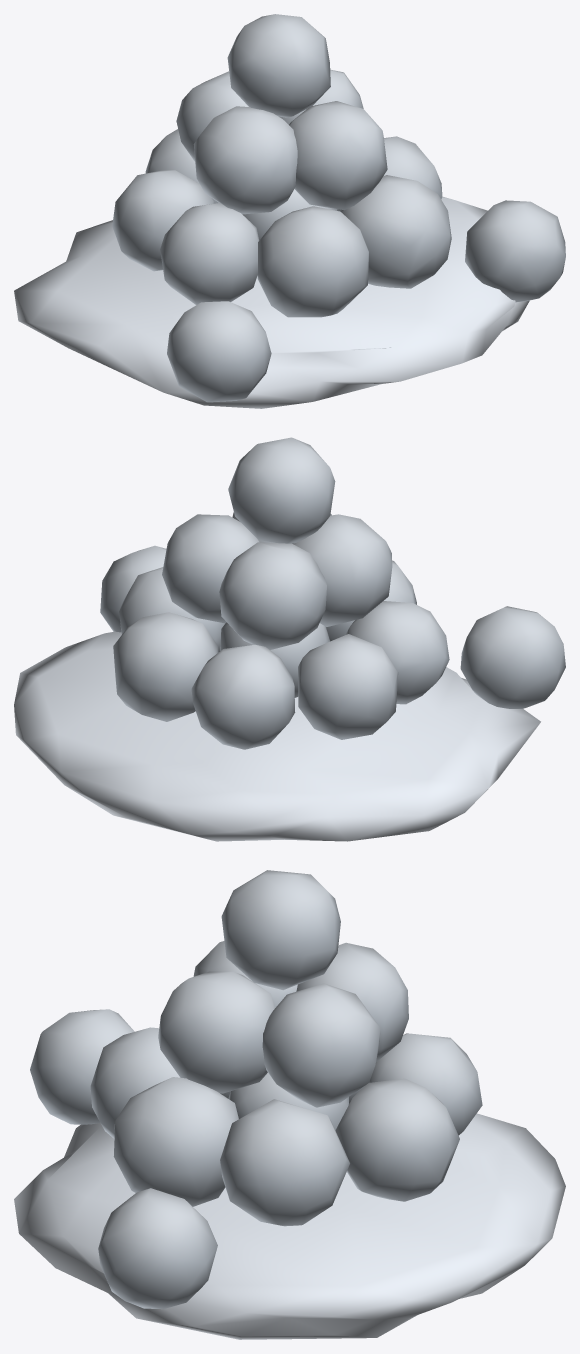
Rendered from snowball_pile.glb.
3 renders of one model, top to bottom at view 1: azimuth 30°, elevation 25°; view 2: azimuth 150°, elevation 25°; view 3: azimuth 270°, elevation 25°, orthographic. The views are drawn at different scales.
Parts seen in each view (by area): view 1: loose; view 2: loose; view 3: loose.
Boxes of the visible parts, bbox=[...] form: loose: bbox=[14, 14, 565, 408]; loose: bbox=[14, 437, 565, 841]; loose: bbox=[14, 870, 565, 1339].
Bounding box in the file's own units: 0.9372 × 0.631 × 0.8417.
1 material, 1 textured.
